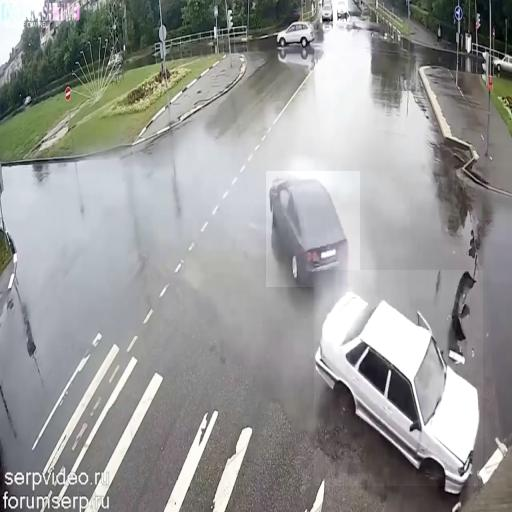小汽车: (314, 270, 483, 486), (266, 171, 360, 287), (276, 17, 314, 50), (335, 0, 348, 23), (320, 3, 333, 21)
